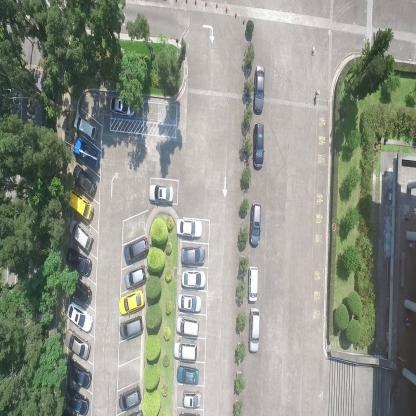car: (68, 218, 94, 255), (67, 188, 94, 223), (64, 328, 92, 361), (66, 301, 93, 333), (66, 357, 93, 389), (73, 135, 99, 168), (72, 164, 96, 198), (65, 248, 92, 278), (119, 286, 145, 317), (123, 233, 149, 263), (72, 111, 98, 140), (64, 384, 89, 414), (69, 276, 92, 306), (118, 316, 144, 342), (252, 65, 266, 113), (118, 383, 142, 411), (248, 203, 262, 248), (124, 263, 148, 289), (176, 215, 203, 238), (108, 94, 136, 116), (247, 306, 260, 353), (181, 267, 206, 291), (172, 340, 198, 363), (148, 181, 174, 204), (180, 243, 205, 266), (178, 292, 202, 314), (176, 315, 200, 337), (253, 121, 264, 168), (176, 366, 200, 386), (182, 388, 203, 410), (247, 266, 259, 304)
